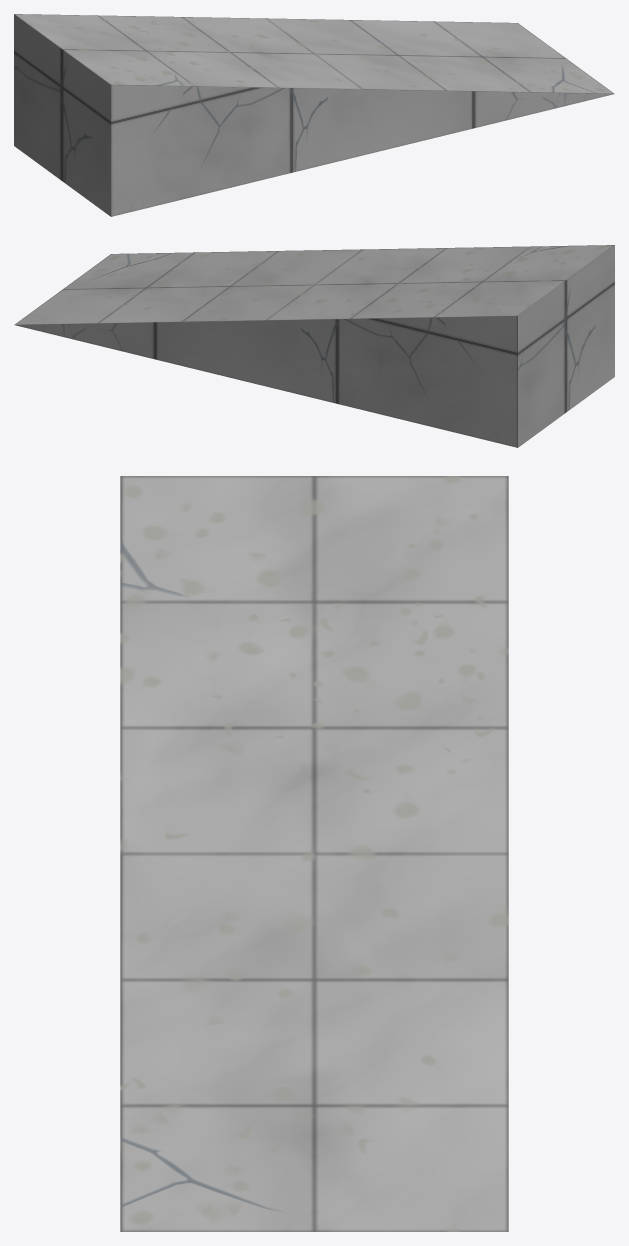
Rendered from ramp.fbx.
The picture shows the model from 3 angles, top to bottom: view 1: azimuth 30°, elevation 25°; view 2: azimuth 150°, elevation 25°; view 3: azimuth 270°, elevation 25°; orthographic projection. The views are drawn at different scales.
Parts seen in each view (by area): view 1: Cube.006; view 2: Cube.006; view 3: Cube.006.
Boxes of the visible parts, <box> form: Cube.006: <box>14,14,614,216</box>; Cube.006: <box>14,245,614,447</box>; Cube.006: <box>120,476,508,1231</box>.
Size of the model in its own units: 600 by 150 by 200.
